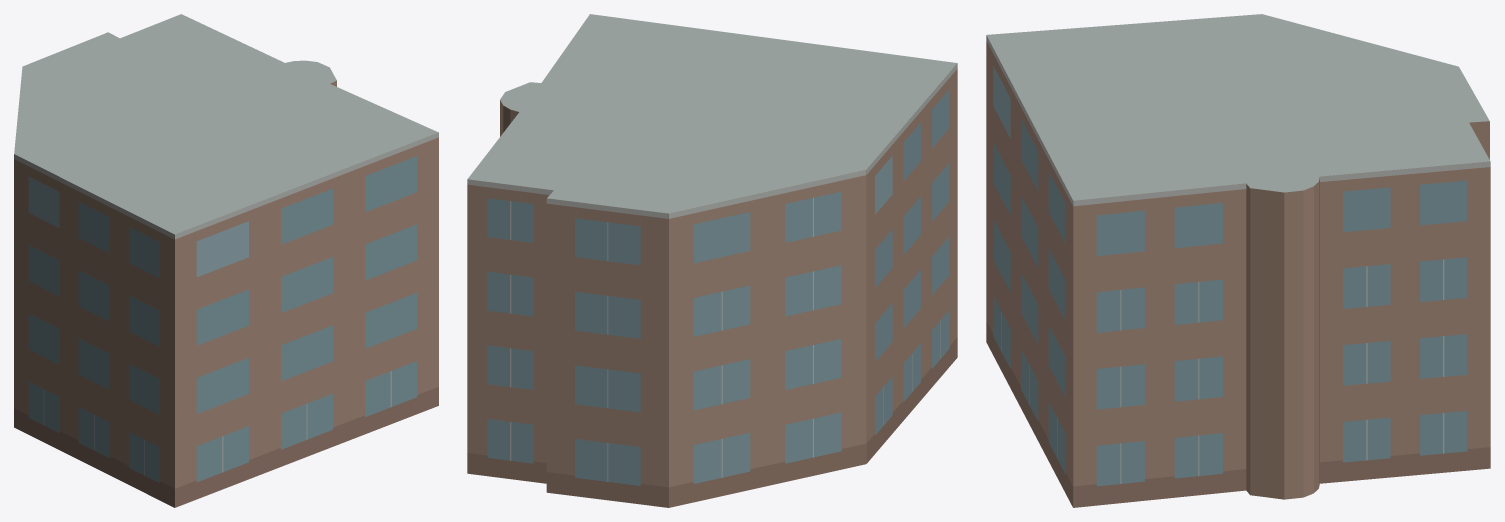
File: survey-upis-32462891.glb
The picture shows the model from 3 angles, left to right: view 1: azimuth 30°, elevation 25°; view 2: azimuth 150°, elevation 25°; view 3: azimuth 270°, elevation 25°; orthographic projection. The views are drawn at different scales.
Visible parts, largest first — view 1: survey-upis-32462891.tmp; view 2: survey-upis-32462891.tmp; view 3: survey-upis-32462891.tmp.
Part boxes in pixels (left/top/right/bottom): survey-upis-32462891.tmp: left=14, top=14, right=438, bottom=507; survey-upis-32462891.tmp: left=467, top=14, right=957, bottom=507; survey-upis-32462891.tmp: left=986, top=14, right=1490, bottom=507.
Size of the model in its own units: 17.62 by 13.5 by 20.11.
